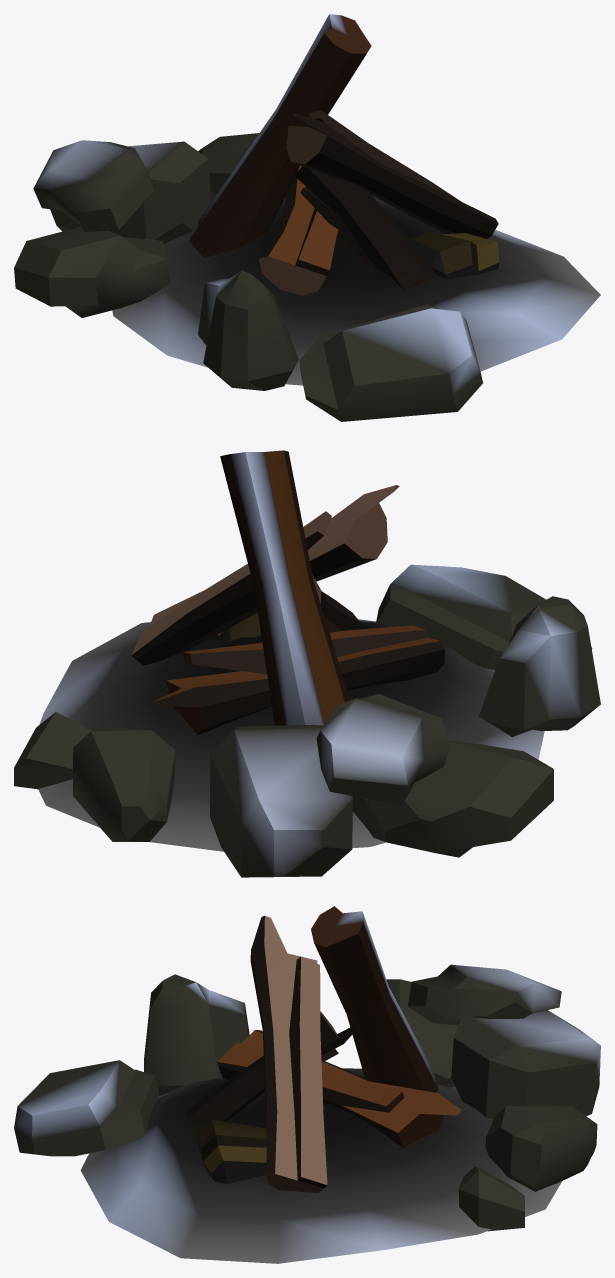
File: Bonfire_02.fbx
The picture shows the model from 3 angles, top to bottom: view 1: azimuth 30°, elevation 25°; view 2: azimuth 150°, elevation 25°; view 3: azimuth 270°, elevation 25°; orthographic projection. The views are drawn at different scales.
Visible parts, largest first — view 1: Bonfire_02; view 2: Bonfire_02; view 3: Bonfire_02.
Part boxes in pixels (left/top/right/bottom): Bonfire_02: left=14, top=14, right=600, bottom=421; Bonfire_02: left=14, top=450, right=600, bottom=877; Bonfire_02: left=14, top=906, right=600, bottom=1263.
Size of the model in its own units: 1702 by 914 by 1854.
